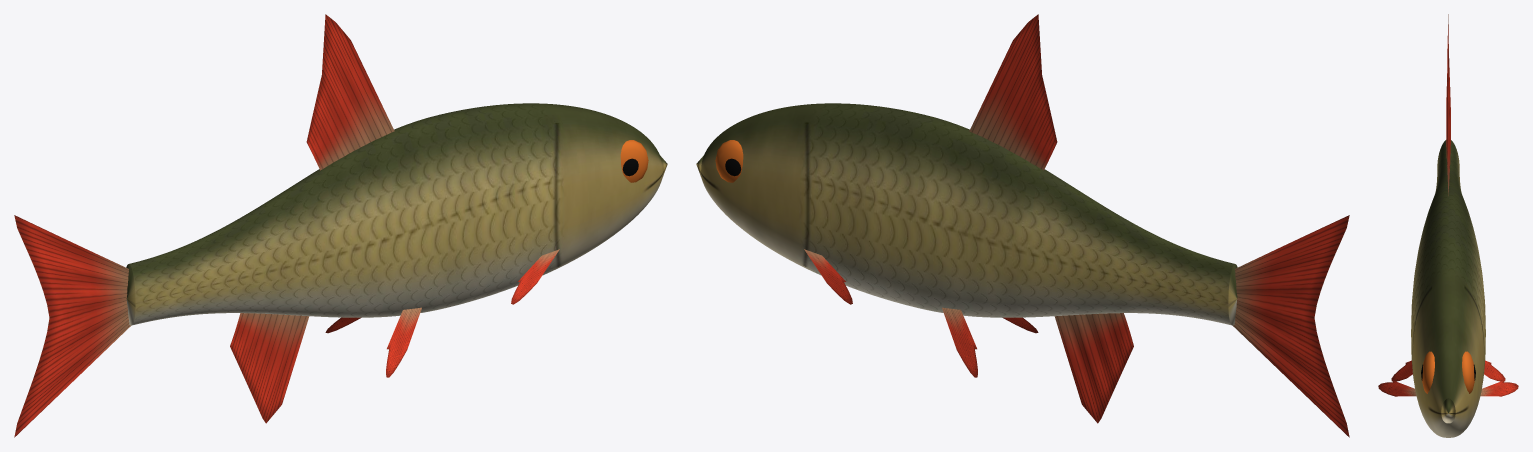
File: fish_rudd.gltf
3 views of the same model, side by side, from view 1: azimuth 30°, elevation 25°; view 2: azimuth 150°, elevation 25°; view 3: azimuth 270°, elevation 25° (orthographic). The views are drawn at different scales.
Visible parts, largest first — view 1: fish_rudd; view 2: fish_rudd; view 3: fish_rudd.
Boxes of the visible parts, left/top/right/bottom form: fish_rudd: left=14, top=14, right=667, bottom=437; fish_rudd: left=696, top=14, right=1349, bottom=437; fish_rudd: left=1378, top=14, right=1518, bottom=437.
Bounding box in the file's own units: 0.2384 × 0.1378 × 0.0474.
Materials: 6 (4 with a texture image).
